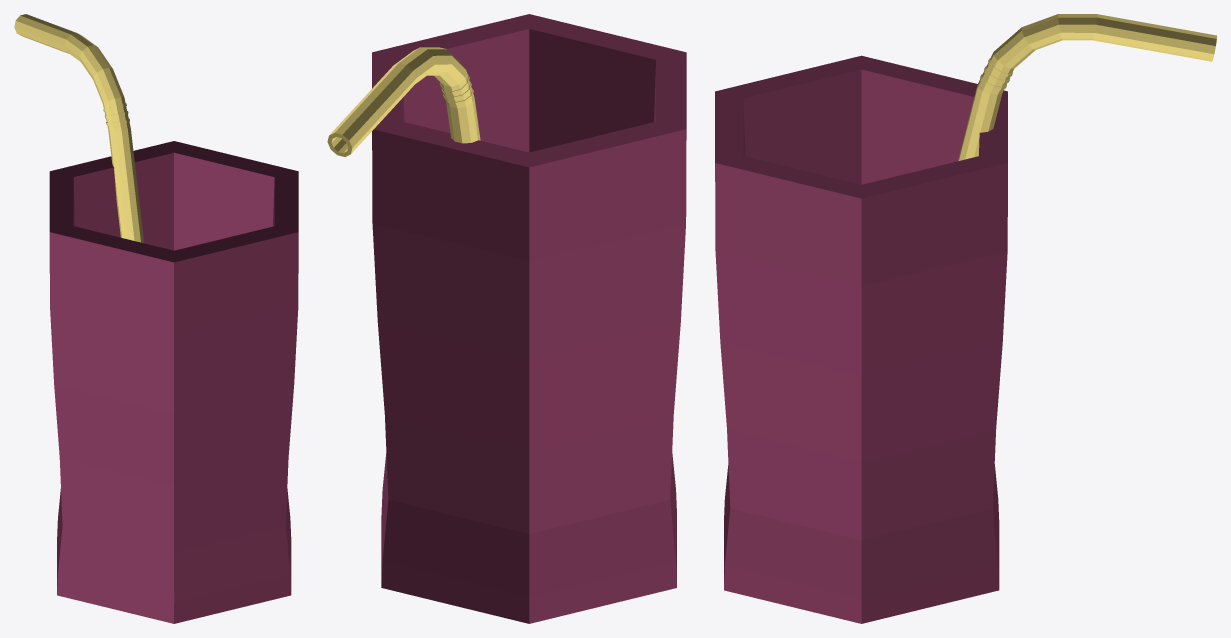
File: Drink Cup 2.fbx
3 renders of one model, left to right at view 1: azimuth 30°, elevation 25°; view 2: azimuth 150°, elevation 25°; view 3: azimuth 270°, elevation 25°, orthographic. The views are drawn at different scales.
Parts seen in each view (by area): view 1: Node 0; view 2: Node 0; view 3: Node 0.
Part boxes in pixels (bbox=[...]): Node 0: bbox=[14, 14, 298, 623]; Node 0: bbox=[327, 14, 686, 623]; Node 0: bbox=[715, 14, 1216, 623].
Size of the model in its own units: 0.1552 by 0.1846 by 0.1046.
